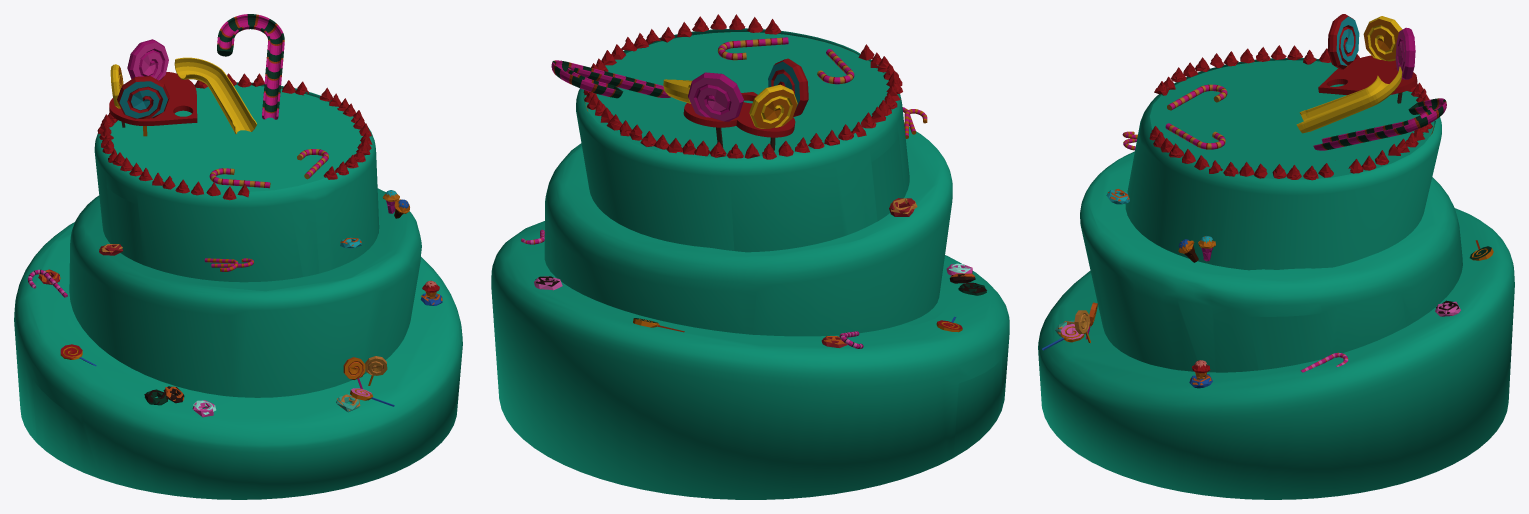
Rendered from candy_table.FBX.
The picture shows the model from 3 angles, left to right: view 1: azimuth 30°, elevation 25°; view 2: azimuth 150°, elevation 25°; view 3: azimuth 270°, elevation 25°; orthographic projection. The views are drawn at different scales.
Visible parts, largest first — view 1: Cake, Deko, Boundery, BallStarter, Slide, Platform, Lollipop3, Lollipop1, LeftFlipper; view 2: Cake, Boundery, Deko, Lollipop1, BallStarter, Lollipop2, Platform, Lollipop3, RightFlipper; view 3: Cake, Boundery, Deko, Slide, Platform, BallStarter, Lollipop3, Lollipop2, Lollipop1, LeftFlipper, RightFlipper.
Part boxes in pixels (box(x1,y1,x2,y2)): Cake: box(14, 82, 462, 499); Deko: box(28, 190, 442, 417); Boundery: box(97, 73, 372, 200); BallStarter: box(217, 14, 284, 119); Slide: box(174, 57, 256, 133); Platform: box(109, 72, 197, 125); Lollipop3: box(117, 76, 169, 136); Lollipop1: box(127, 39, 168, 80); LeftFlipper: box(209, 168, 270, 188); Cake: box(491, 28, 1009, 499); Boundery: box(583, 14, 902, 159); Deko: box(521, 107, 986, 348); Lollipop1: box(688, 72, 743, 147); BallStarter: box(551, 60, 670, 98); Lollipop2: box(749, 84, 797, 150); Platform: box(683, 92, 795, 137); Lollipop3: box(768, 58, 808, 116); RightFlipper: box(718, 37, 788, 60); Cake: box(1038, 58, 1514, 499); Boundery: box(1149, 45, 1432, 180); Deko: box(1042, 131, 1493, 388); Slide: box(1296, 66, 1402, 133); Platform: box(1318, 55, 1417, 95); BallStarter: box(1313, 98, 1446, 150); Lollipop3: box(1327, 14, 1359, 69); Lollipop2: box(1363, 16, 1402, 61); Lollipop1: box(1395, 27, 1415, 103); LeftFlipper: box(1167, 84, 1227, 110); RightFlipper: box(1165, 123, 1225, 149).
Bounding box in the file's own units: 428 × 347 × 423.
